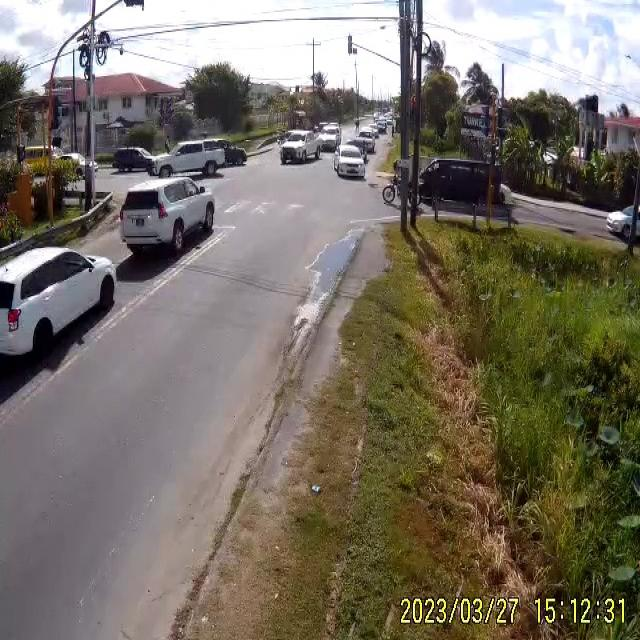car: (2, 241, 118, 378), (119, 176, 216, 258), (407, 156, 512, 218), (148, 142, 225, 180), (281, 132, 320, 166), (606, 204, 638, 242), (334, 144, 366, 179), (112, 147, 154, 172), (314, 126, 339, 156)
